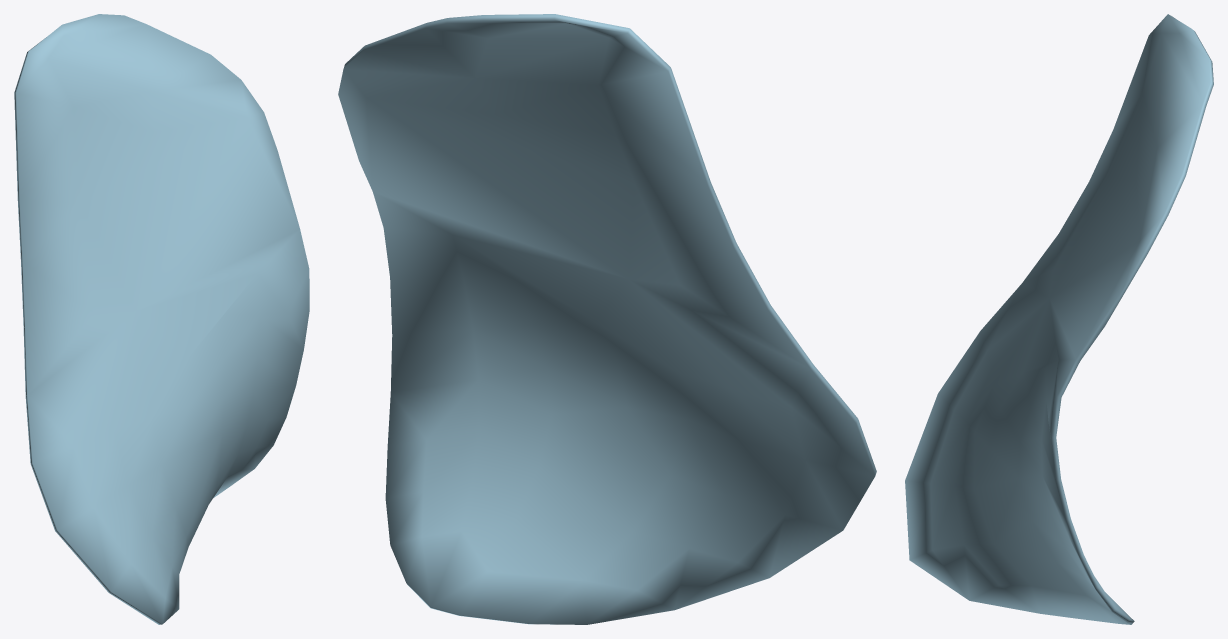
The model's file is articulacoes-anterior-sacro-iliac-ligament-r.glb.
The picture shows the model from 3 angles, left to right: view 1: azimuth 30°, elevation 25°; view 2: azimuth 150°, elevation 25°; view 3: azimuth 270°, elevation 25°; orthographic projection. The views are drawn at different scales.
Visible parts, largest first — view 1: Anterior sacro-iliac ligament.r; view 2: Anterior sacro-iliac ligament.r; view 3: Anterior sacro-iliac ligament.r.
Boxes of the visible parts, box(x1,y1,x2,y2) form: Anterior sacro-iliac ligament.r: box(14, 14, 309, 624); Anterior sacro-iliac ligament.r: box(338, 14, 876, 624); Anterior sacro-iliac ligament.r: box(905, 14, 1213, 624).
Bounding box in the file's own units: 0.0402 × 0.0633 × 0.0315.
